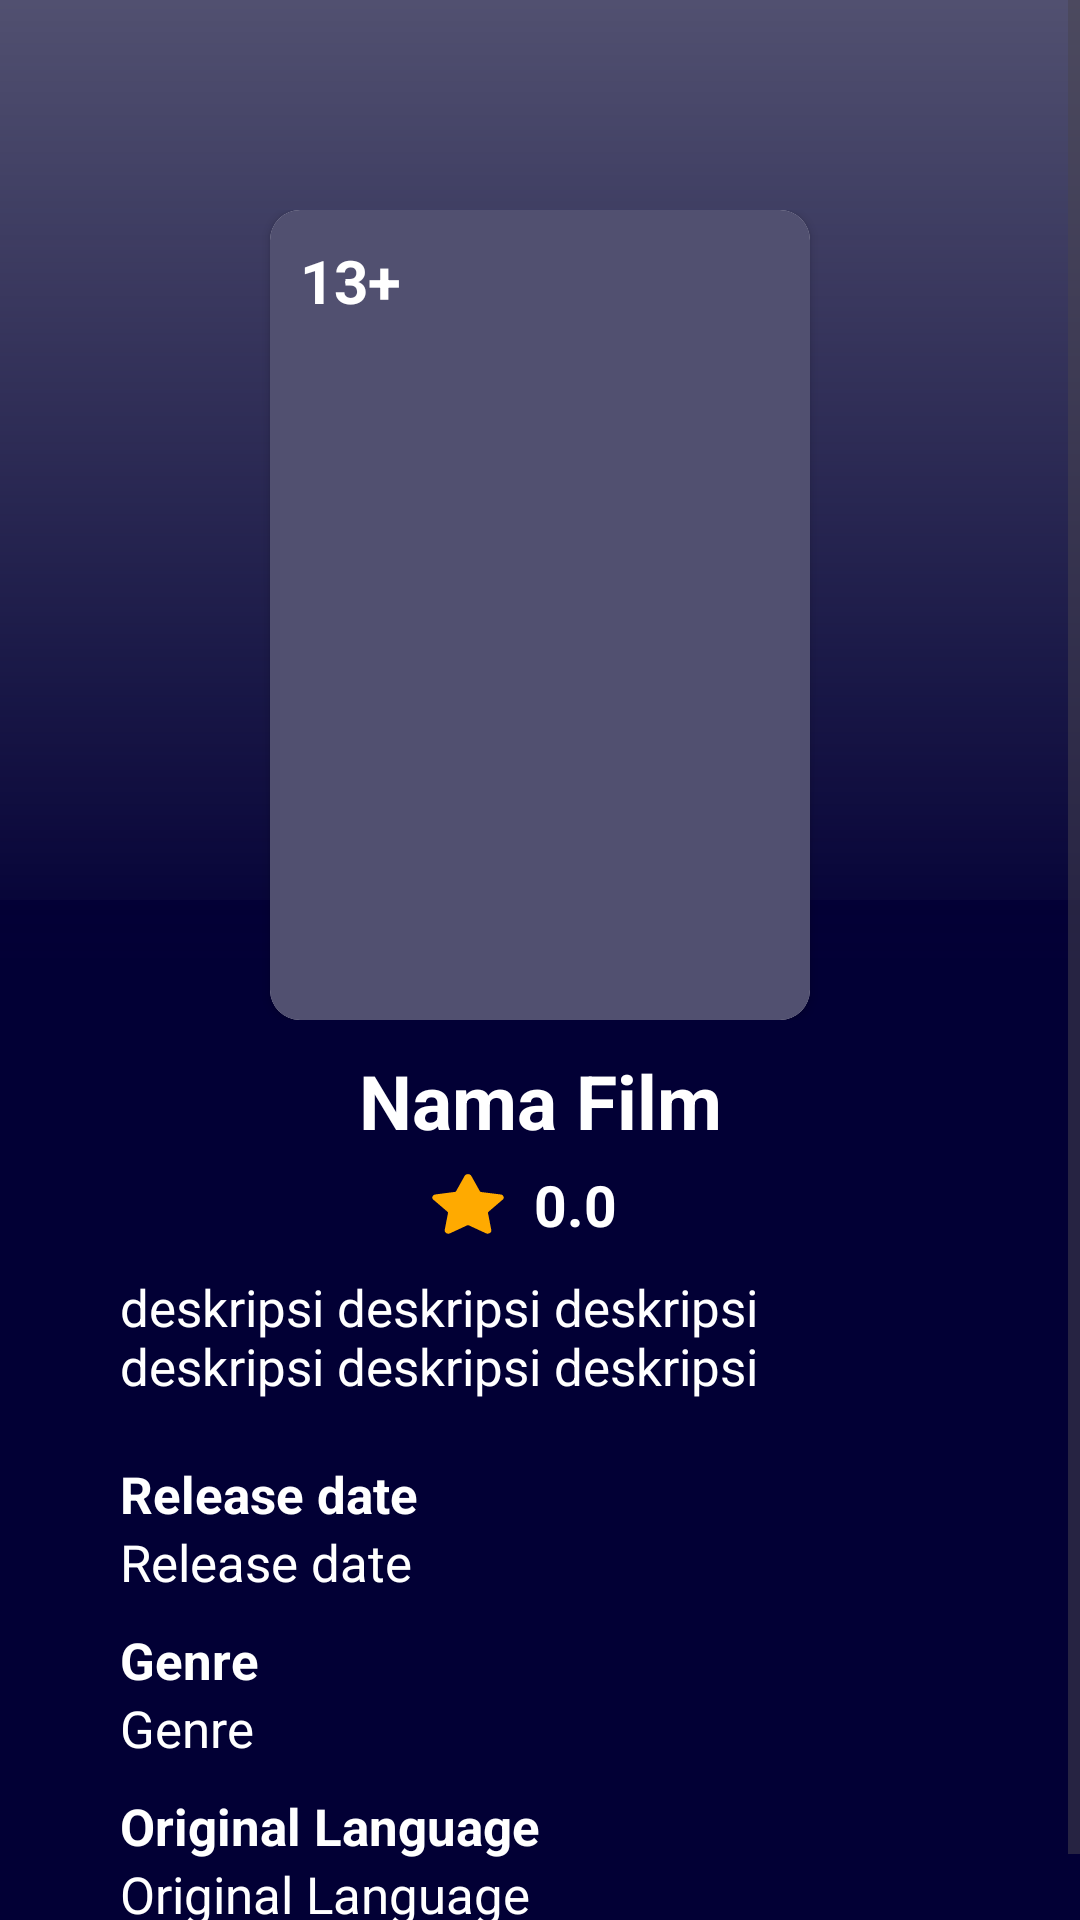

Icons on this 1080 x 1920 Android screen, each with its box as (left=x1, top=y1, right=x2, bottom=y2):
rating: (left=432, top=1174, right=504, bottom=1234)
